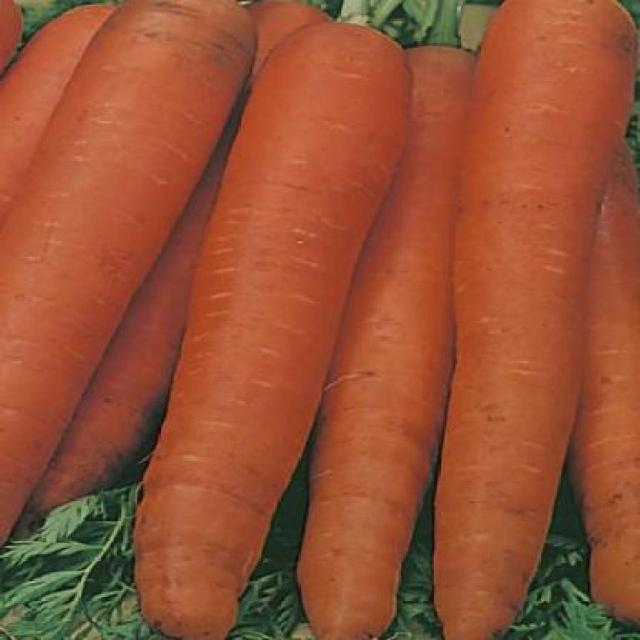carrot: (136, 15, 415, 640), (0, 0, 261, 555), (437, 0, 640, 640)
